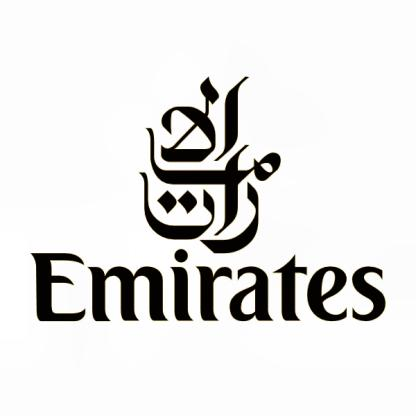Emirates: (27, 72, 388, 323), (29, 250, 385, 323)
